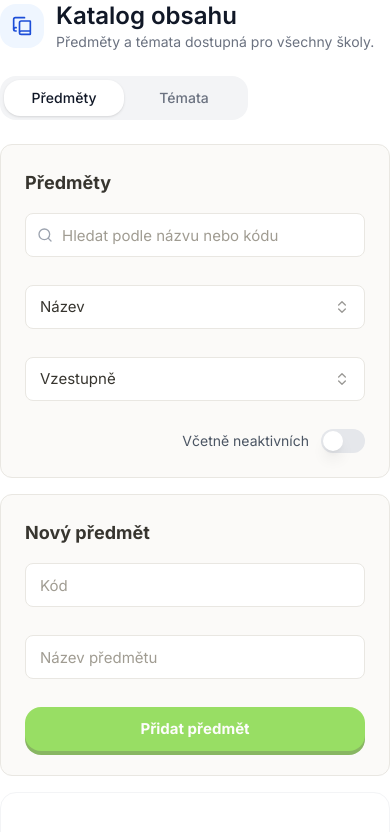
it: Platform catalog page › creates a subject
The width and height of the screenshot is (390, 832).
Type "eng" into the field named "Kód předmětu" at (195, 585), box [25,563,365,607]
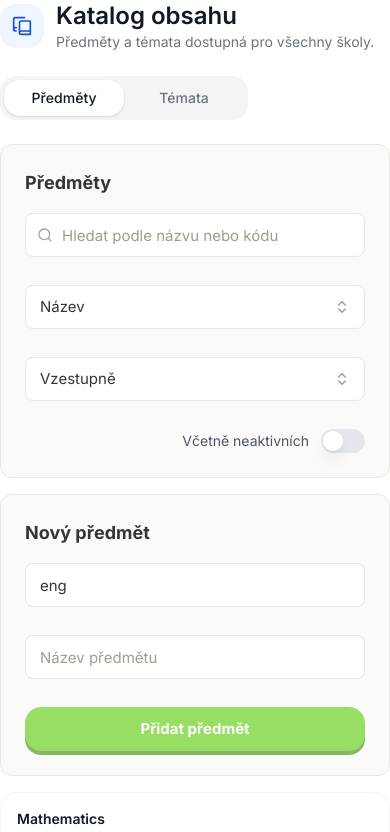
Type "English" into the field labelled "Název předmětu" at (195, 657), box [25,635,365,679]
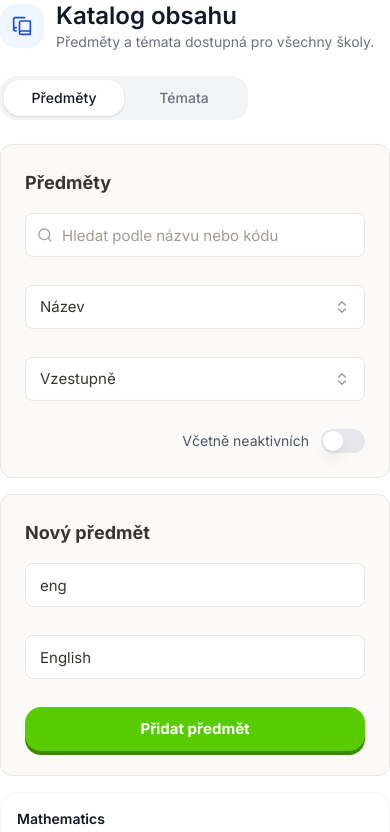
Click the button "Přidat předmět" at (195, 729), box [25,707,365,751]
(page scrolled)
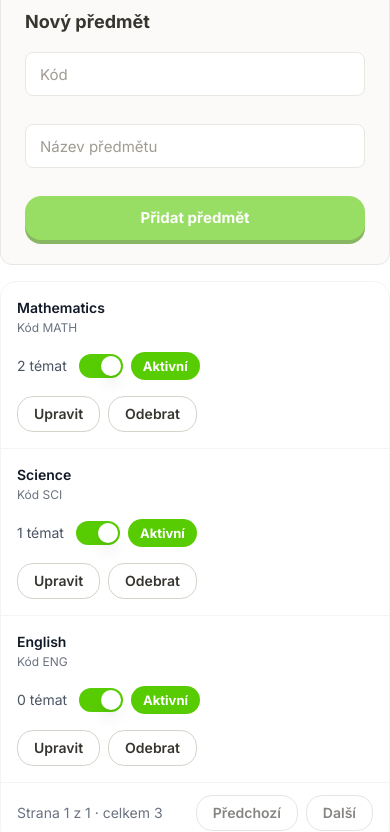
Expected: the text "English" is shown, [17,633,66,650]
